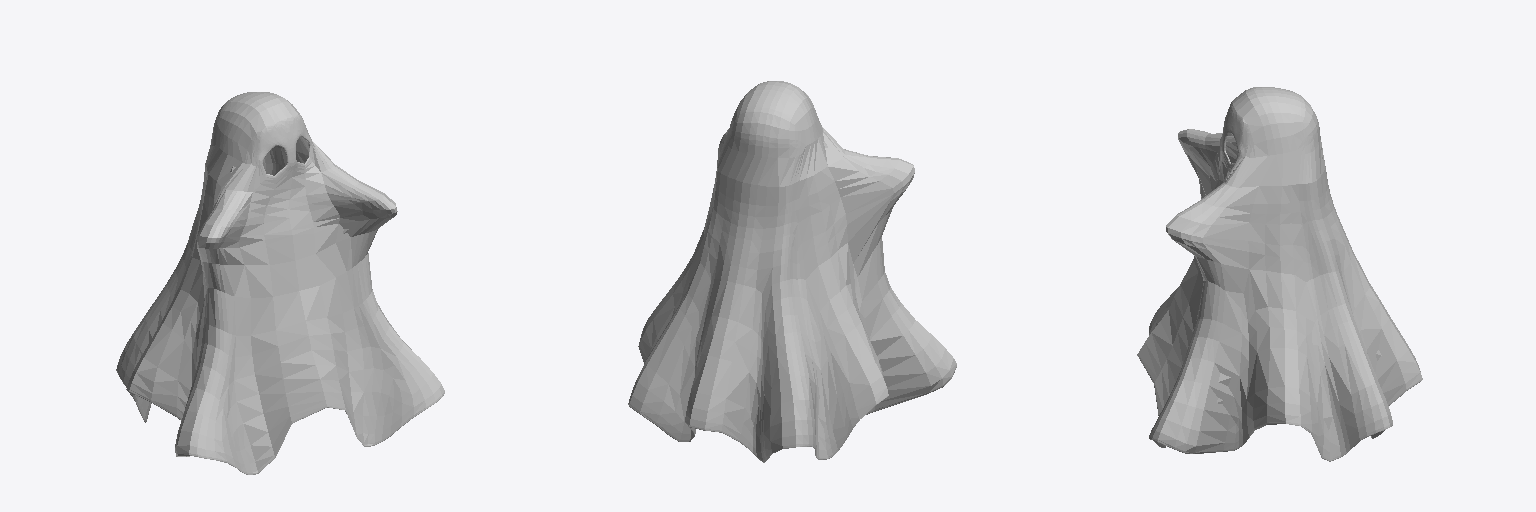
3 renders of one model, left to right at view 1: azimuth 30°, elevation 25°; view 2: azimuth 150°, elevation 25°; view 3: azimuth 270°, elevation 25°, orthographic.
Parts seen in each view (by area): view 1: youlinguu2:Group3 walk1; view 2: youlinguu2:Group3 walk1; view 3: youlinguu2:Group3 walk1.
Boxes of the visible parts, <box> form: youlinguu2:Group3 walk1: <box>116,92,444,474</box>; youlinguu2:Group3 walk1: <box>628,81,956,462</box>; youlinguu2:Group3 walk1: <box>1137,87,1422,461</box>.
Bounding box in the file's own units: 33.16 × 39.68 × 31.23.